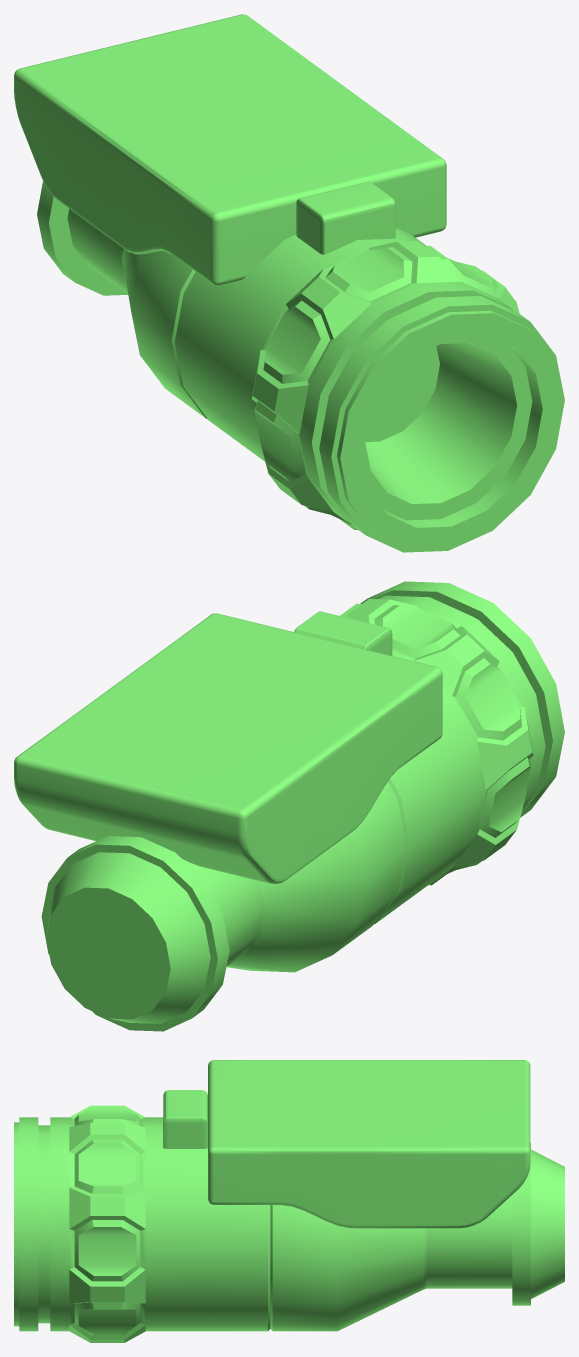
File: part_accessory_03.fbx
3 renders of one model, top to bottom at view 1: azimuth 30°, elevation 25°; view 2: azimuth 150°, elevation 25°; view 3: azimuth 270°, elevation 25°, orthographic. The views are drawn at different scales.
Parts seen in each view (by area): view 1: part_accessory_03; view 2: part_accessory_03; view 3: part_accessory_03.
Boxes of the visible parts, <box> form: part_accessory_03: <box>14,14,564,552</box>; part_accessory_03: <box>14,581,564,1031</box>; part_accessory_03: <box>14,1060,564,1342</box>.
Bounding box in the file's own units: 7.93 × 8.47 × 18.48.
